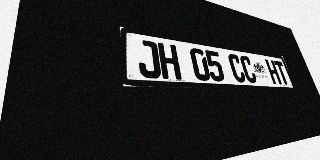0: (189, 47, 211, 81)
5: (204, 50, 226, 82)
C: (227, 53, 247, 83), (239, 55, 258, 83)
H: (157, 42, 182, 80), (265, 59, 282, 84)
J: (136, 39, 162, 79)
T: (273, 61, 290, 85)
